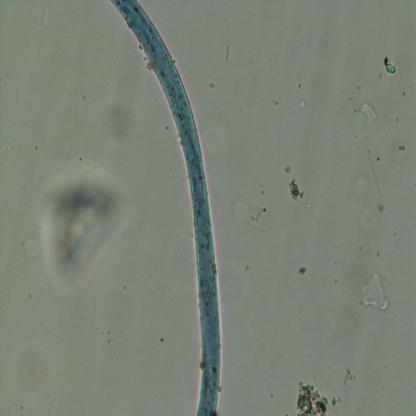Background material: (38, 157, 129, 296), (102, 99, 138, 153), (12, 336, 46, 386), (359, 269, 391, 314), (293, 378, 328, 415), (225, 184, 248, 224), (356, 97, 378, 128), (21, 233, 42, 262), (288, 178, 306, 202), (248, 205, 268, 222), (382, 54, 398, 75), (342, 367, 356, 386), (42, 4, 52, 29), (223, 40, 232, 66), (0, 140, 13, 156), (271, 94, 281, 108), (298, 263, 308, 277), (282, 164, 294, 175), (331, 395, 342, 406), (397, 142, 407, 153), (374, 247, 383, 258), (299, 98, 307, 110), (207, 80, 216, 89), (26, 292, 33, 303), (158, 333, 164, 345)
Glass filter fibre: (364, 145, 383, 213)
Microfibre: (108, 0, 227, 414)
